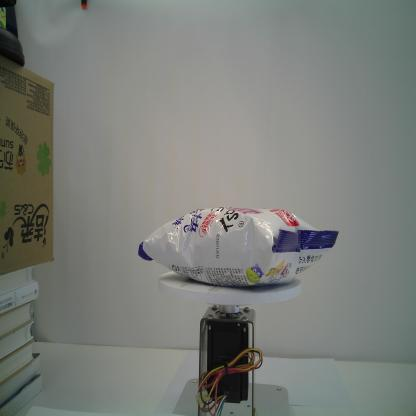Puffed Food: (137, 205, 340, 288)
